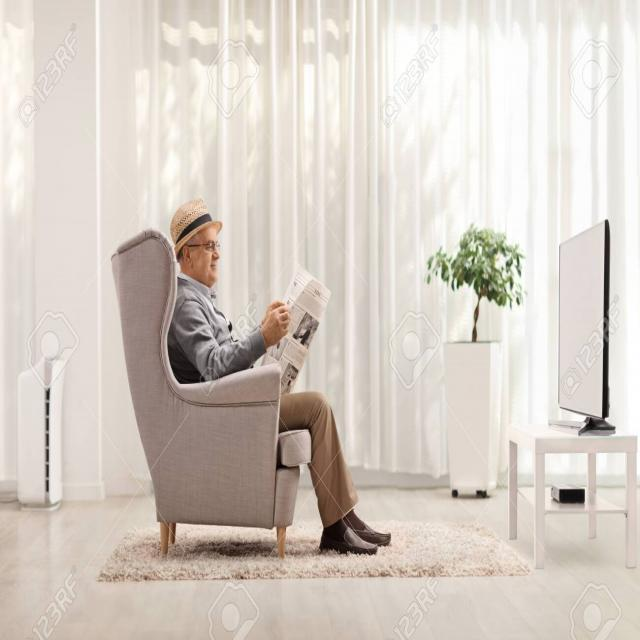NotFall: (120, 174, 423, 532)
